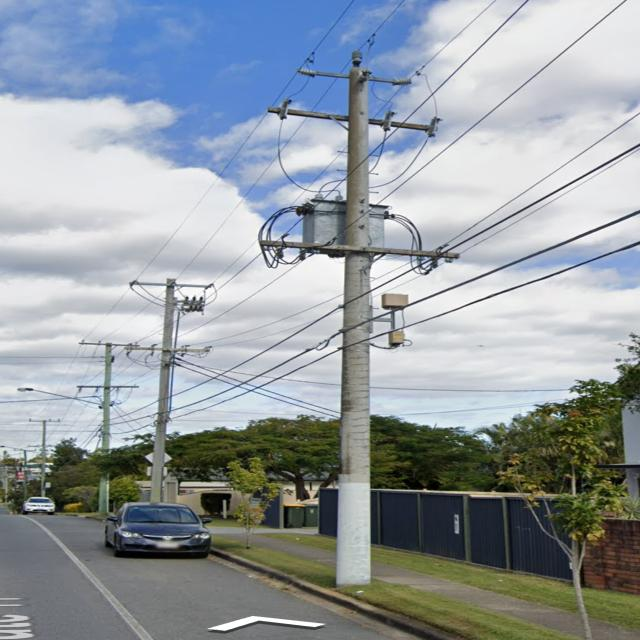HV-switch: (174, 295, 204, 313)
HV-transmission: (268, 48, 439, 140), (129, 276, 214, 290), (77, 339, 142, 347)
concrete-pole: (334, 66, 371, 586), (148, 277, 177, 503)
crossarm: (294, 50, 414, 86), (267, 106, 431, 131), (260, 241, 460, 260), (127, 281, 213, 289), (125, 348, 211, 353), (78, 342, 140, 347), (76, 385, 138, 389)
streetlight: (18, 386, 105, 406)
timber-pole: (97, 341, 115, 514)
transformer: (300, 192, 392, 250)
